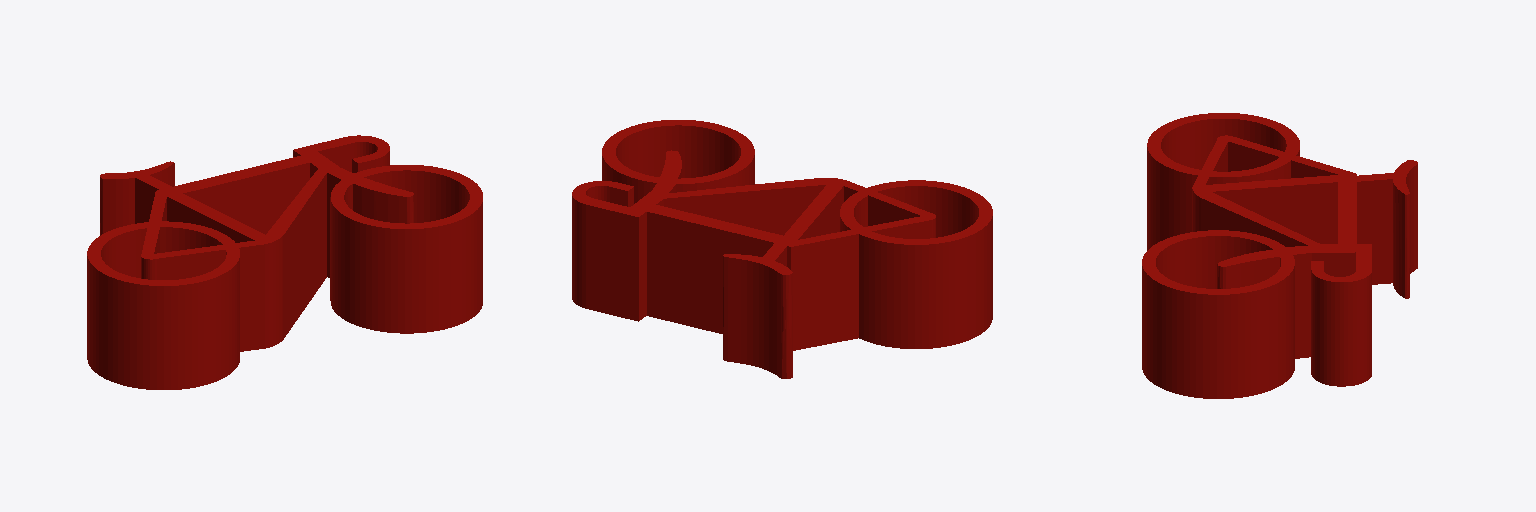
The model's file is blender1.obj.
The picture shows the model from 3 angles: view 1: azimuth 30°, elevation 25°; view 2: azimuth 150°, elevation 25°; view 3: azimuth 270°, elevation 25°; orthographic projection.
Parts seen in each view (by area): view 1: Bicycle; view 2: Bicycle; view 3: Bicycle.
Boxes of the visible parts, x1=… form: Bicycle: x1=87, y1=135, x2=482, y2=389; Bicycle: x1=572, y1=120, x2=992, y2=378; Bicycle: x1=1142, y1=113, x2=1417, y2=398.
Size of the model in its own units: 3.36 by 0.8968 by 2.15.